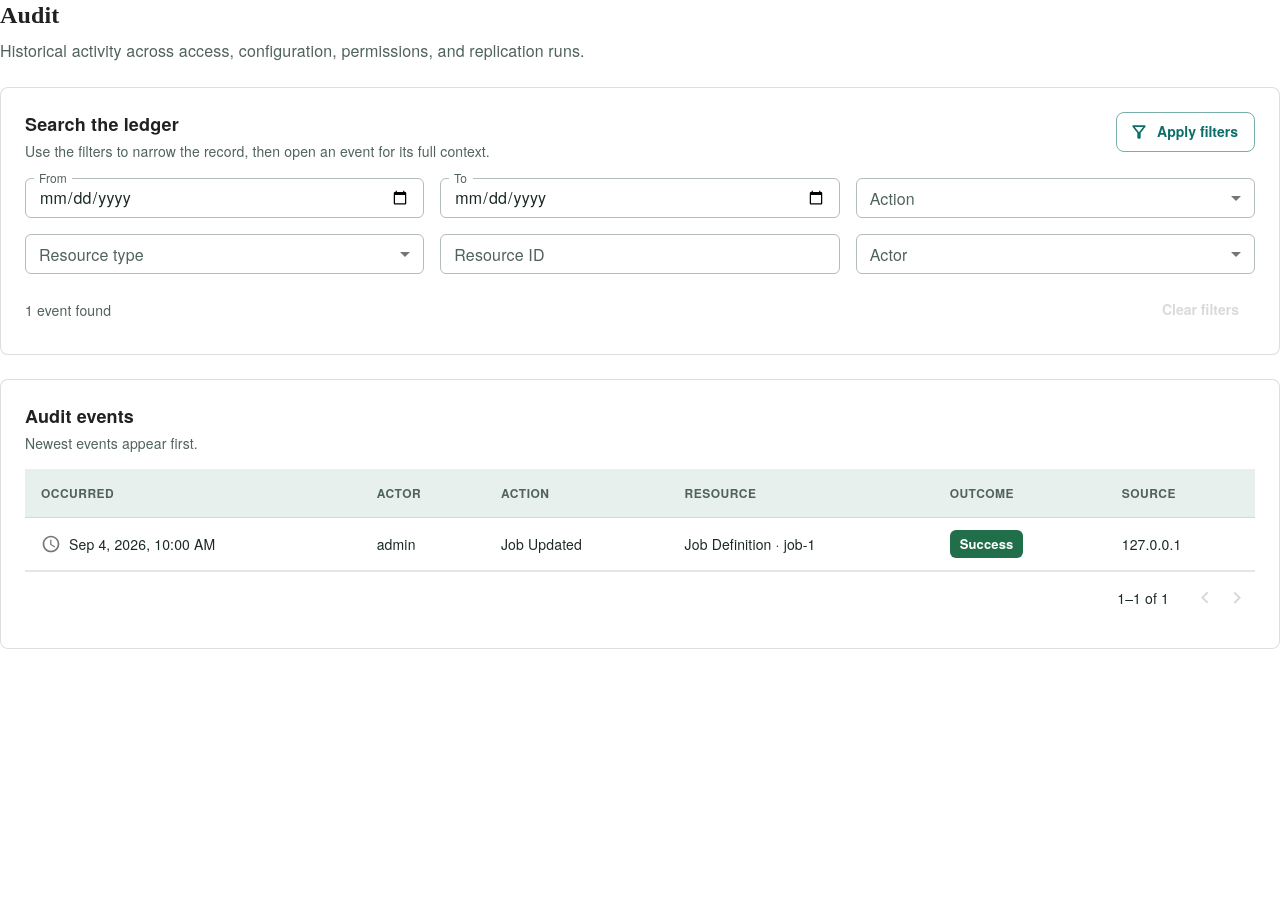
Test case: AuditPage › opens event detail from a table row
Click the row that starts with "Sep 4, 2026, 10:00 AM" at (640, 544), box [25,518,1255,571]
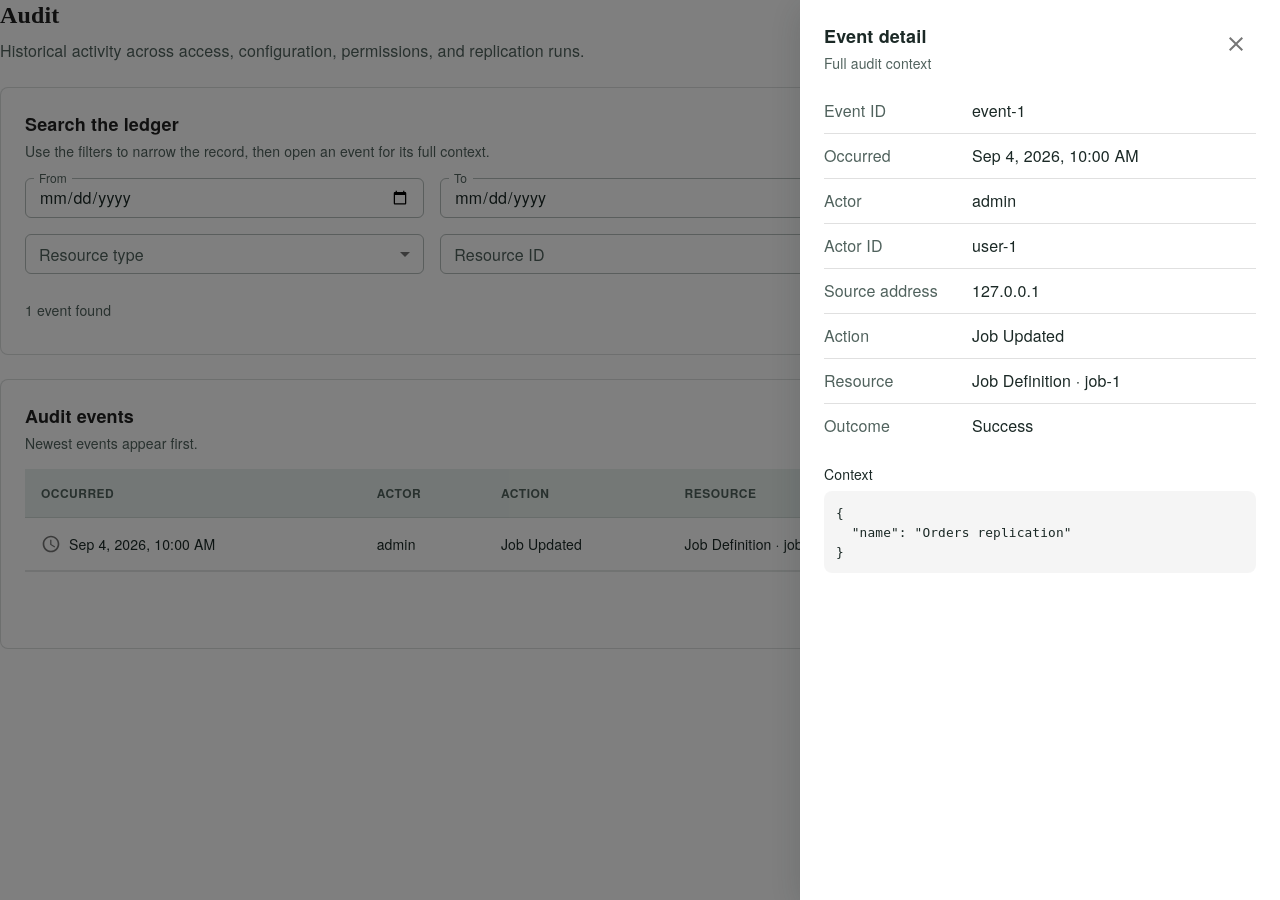
Expected: the heading "Event detail" is shown, [824,24,932,49]
Expected: the text "{ \"name\": \"Orders replication\" }" is shown, [824,491,1256,573]
Click the button named "Close event detail" at (1236, 44), box [1216,24,1256,64]
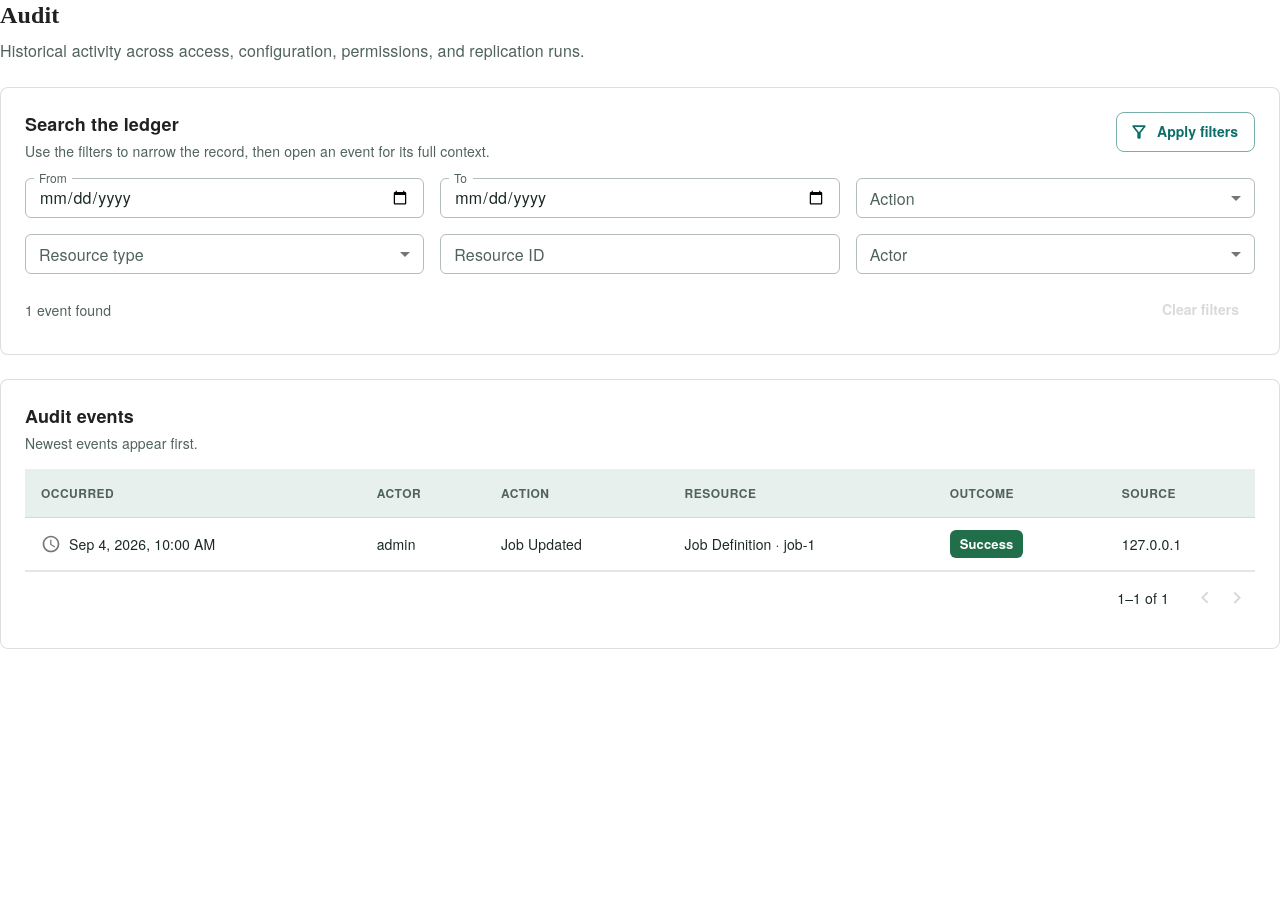
Expected: the heading "Event detail" is gone
